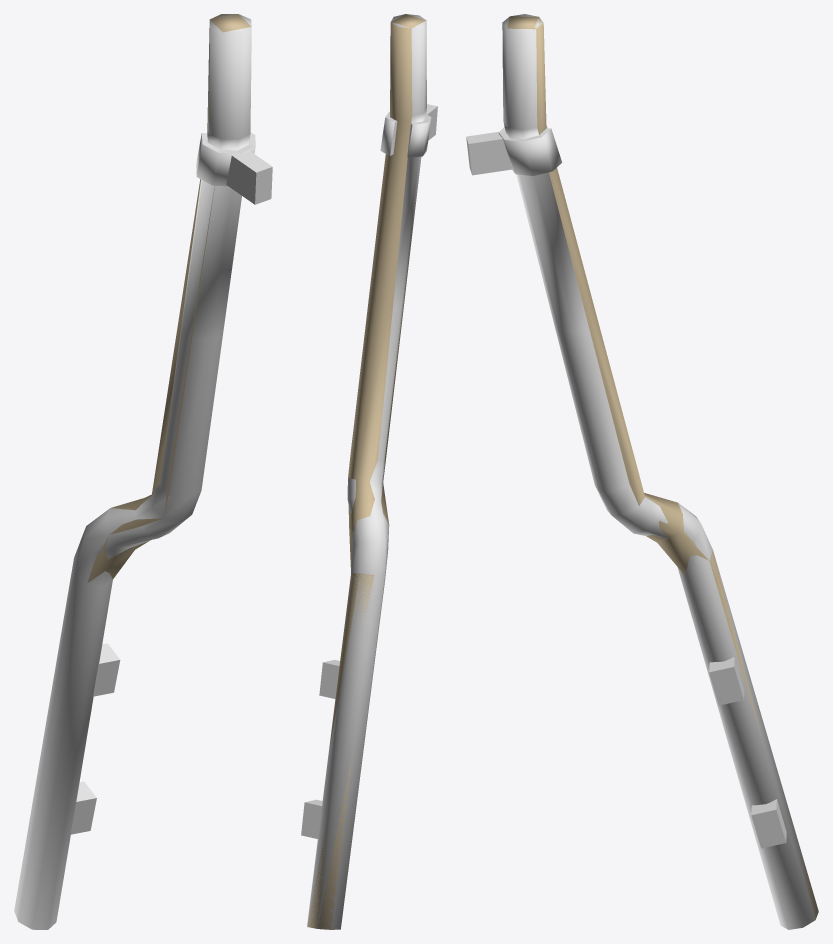
The model's file is M151A2_LightMount.fbx.
3 renders of one model, left to right at view 1: azimuth 30°, elevation 25°; view 2: azimuth 150°, elevation 25°; view 3: azimuth 270°, elevation 25°, orthographic. The views are drawn at different scales.
Visible parts, largest first — view 1: M151A2_LightMount_LOD0, UTM_M151A2_LightMount; view 2: M151A2_LightMount_LOD0, UTM_M151A2_LightMount; view 3: M151A2_LightMount_LOD0, UTM_M151A2_LightMount.
Part boxes in pixels (<box>): M151A2_LightMount_LOD0: <box>14,14,272,929</box>; UTM_M151A2_LightMount: <box>87,14,251,582</box>; M151A2_LightMount_LOD0: <box>301,14,437,929</box>; UTM_M151A2_LightMount: <box>307,14,426,929</box>; M151A2_LightMount_LOD0: <box>466,14,817,929</box>; UTM_M151A2_LightMount: <box>507,16,818,919</box>.
Size of what is drawn, in the model's own units: 10.96 by 118 by 40.78.
